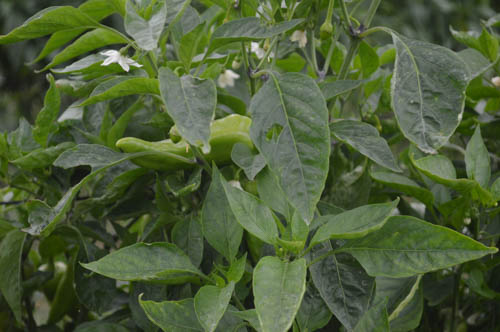ChiliPepper: (113, 115, 265, 167)
